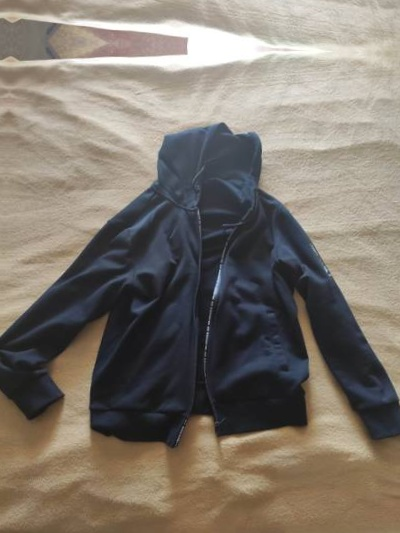Hoodie: (8, 108, 400, 461)
